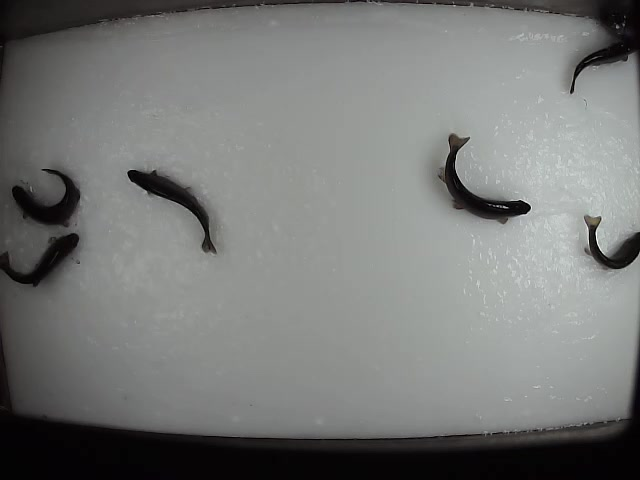fish: (436, 125, 533, 225), (123, 165, 220, 255), (1, 232, 85, 289), (568, 32, 640, 97), (11, 165, 82, 230)
